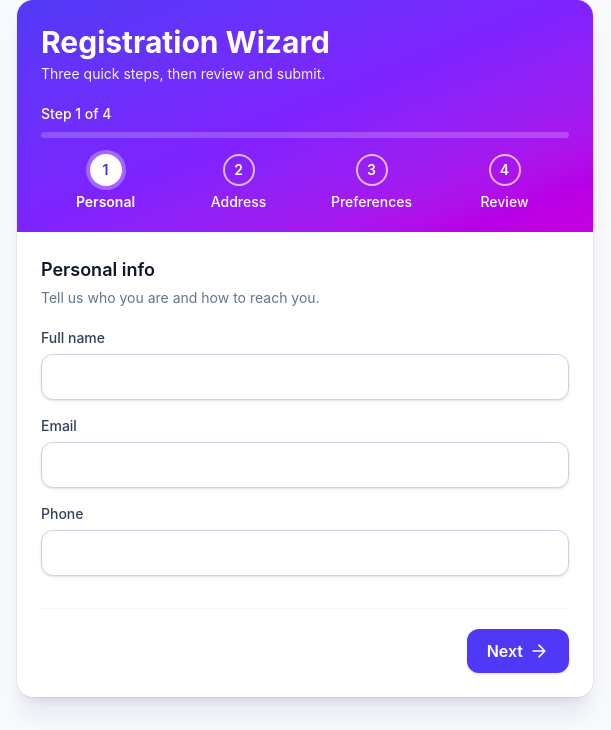
WizardPage › moves to the address step when valid and keeps values on Back
Type "Asha Rao" into the field labelled "Full name" at [305, 377], box [41,354,569,400]
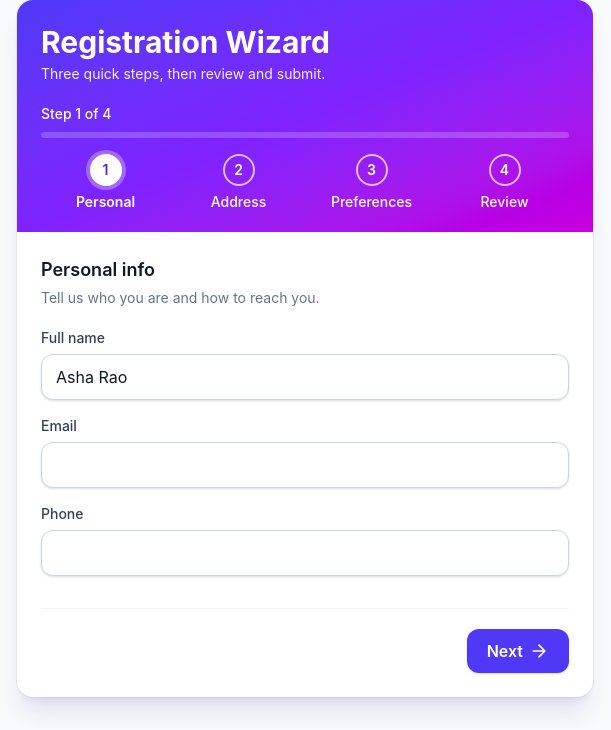
Type "asha@example.com" into the field labelled "Email" at [305, 465], box [41,442,569,488]
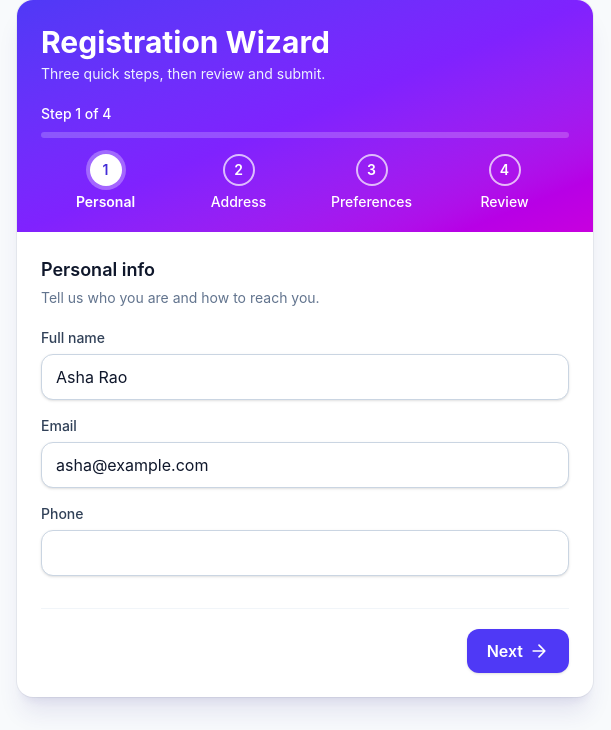
Type "9876543210" into the field labelled "Phone" at [305, 553], box [41,530,569,576]
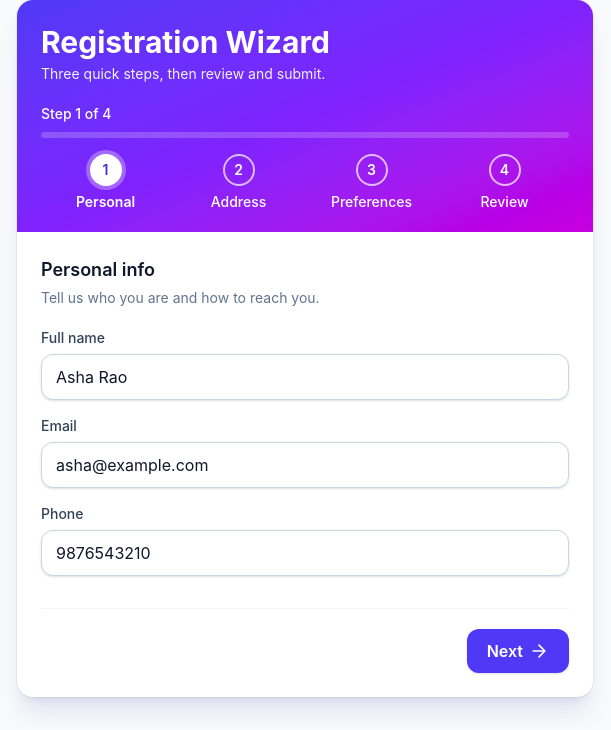
Click the button "Next" at [518, 651], box [467,629,569,673]
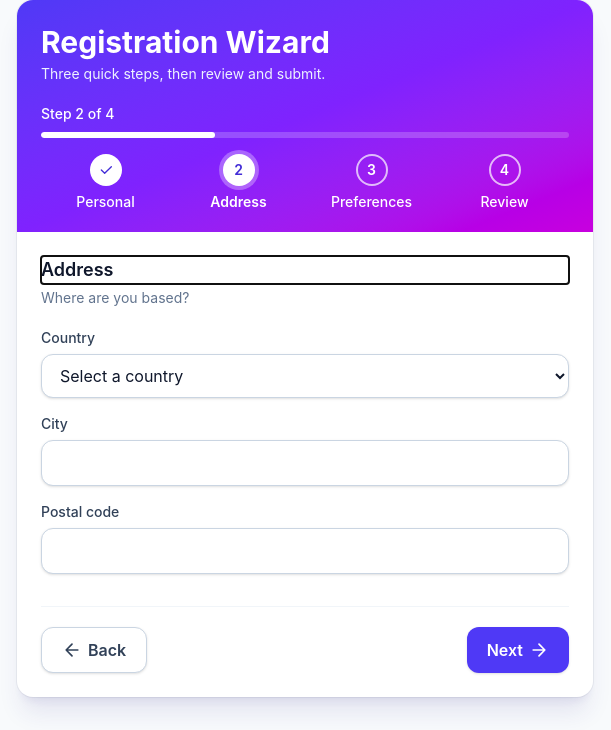
Expected: the list item "2 Address" is shown, [210,154,267,210]
Expected: the heading "Address" is shown, [41,259,114,280]
Expected: the text "Step 2 of 4" is shown, [41,105,114,122]
Click the button "Back" at [94, 650], box [41,627,147,673]
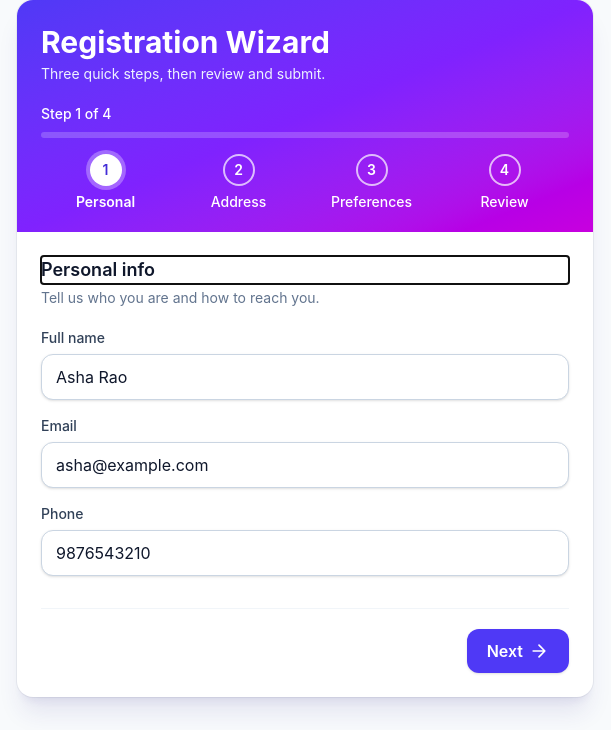
Expected: the heading "Personal info" is shown, [41,259,155,280]
Expected: the field labelled "Full name" holds "Asha Rao", [41,354,569,400]
Expected: the field labelled "Email" holds "asha@example.com", [41,442,569,488]
